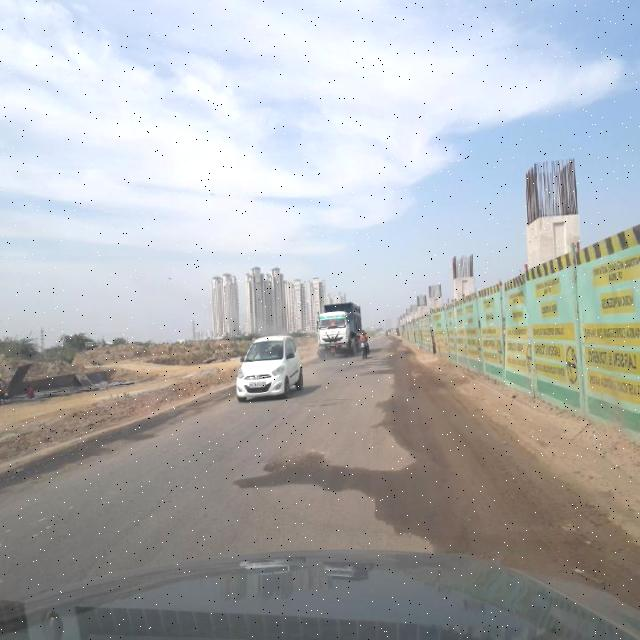D40: (262, 445, 331, 487)
